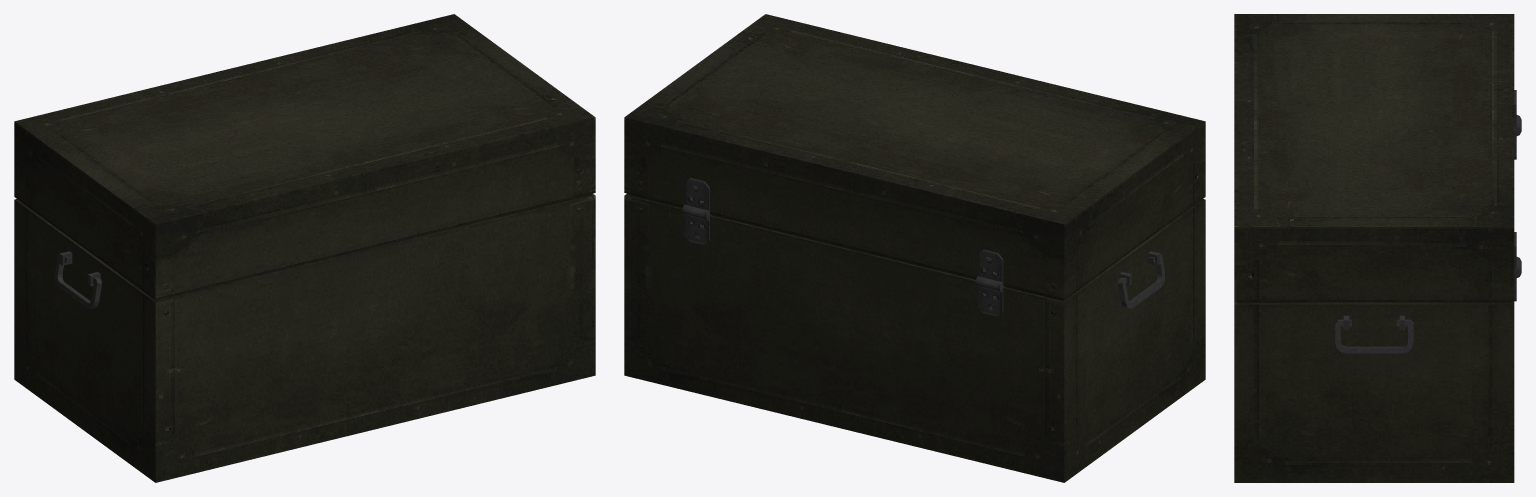
File: wooden_crate_2_a.glb
The picture shows the model from 3 angles, left to right: view 1: azimuth 30°, elevation 25°; view 2: azimuth 150°, elevation 25°; view 3: azimuth 270°, elevation 25°; orthographic projection.
Visible parts, largest first — view 1: wooden_crate_2_a, wooden_crate_2_a_lid; view 2: wooden_crate_2_a, wooden_crate_2_a_lid; view 3: wooden_crate_2_a_lid, wooden_crate_2_a.
Part boxes in pixels (box(x1,y1,x2,y2)): wooden_crate_2_a: box(14, 193, 595, 482); wooden_crate_2_a_lid: box(14, 14, 595, 300); wooden_crate_2_a: box(624, 193, 1205, 482); wooden_crate_2_a_lid: box(624, 14, 1205, 300); wooden_crate_2_a_lid: box(1234, 14, 1516, 303); wooden_crate_2_a: box(1234, 115, 1521, 482).
Bounding box in the file's own units: 0.9492 × 0.505 × 0.513.
Materials: 1 (1 with a texture image).
